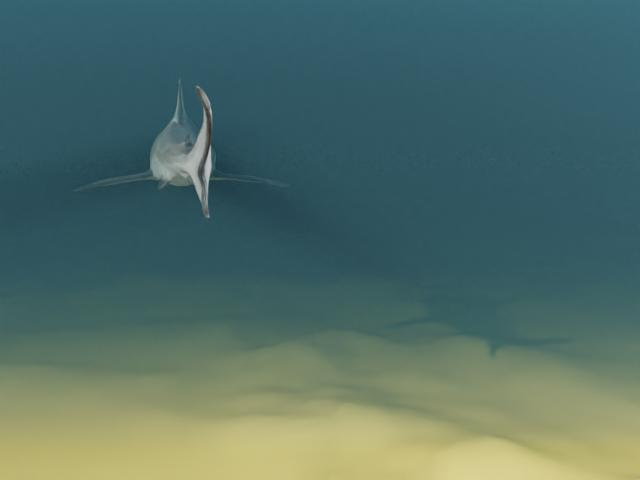Carribean Shark.001: (72, 77, 290, 218)
